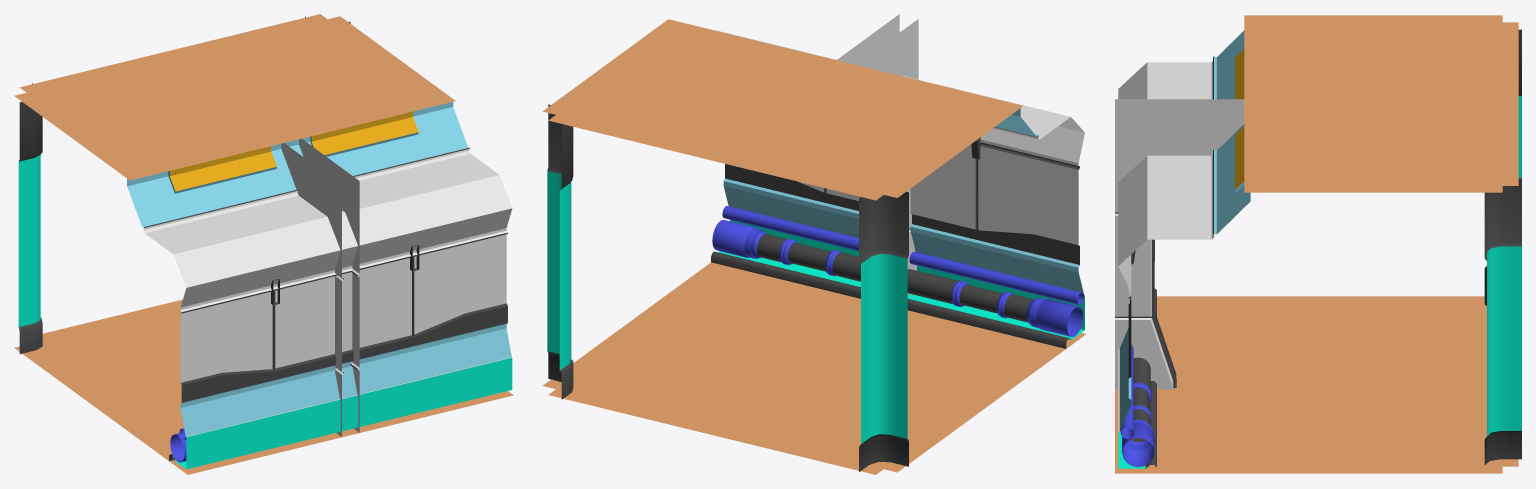
Rendered from HallHalfWall_ThreeSides.fbx.
3 renders of one model, left to right at view 1: azimuth 30°, elevation 25°; view 2: azimuth 150°, elevation 25°; view 3: azimuth 270°, elevation 25°, orthographic. The views are drawn at different scales.
Parts seen in each view (by area): view 1: HallHalfWall_ThreeSides; view 2: HallHalfWall_ThreeSides; view 3: HallHalfWall_ThreeSides.
Boxes of the visible parts, left/top/right/bottom form: HallHalfWall_ThreeSides: left=14, top=14, right=513, bottom=474; HallHalfWall_ThreeSides: left=542, top=14, right=1086, bottom=474; HallHalfWall_ThreeSides: left=1115, top=15, right=1521, bottom=473.
Bounding box in the file's own units: 6.6 × 4.8 × 6.3.
